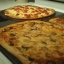pizza: (1, 20, 64, 64), (5, 4, 55, 19)
